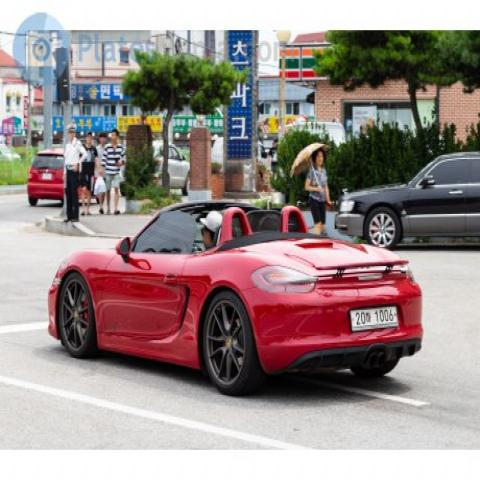LP: (344, 295, 402, 336)
